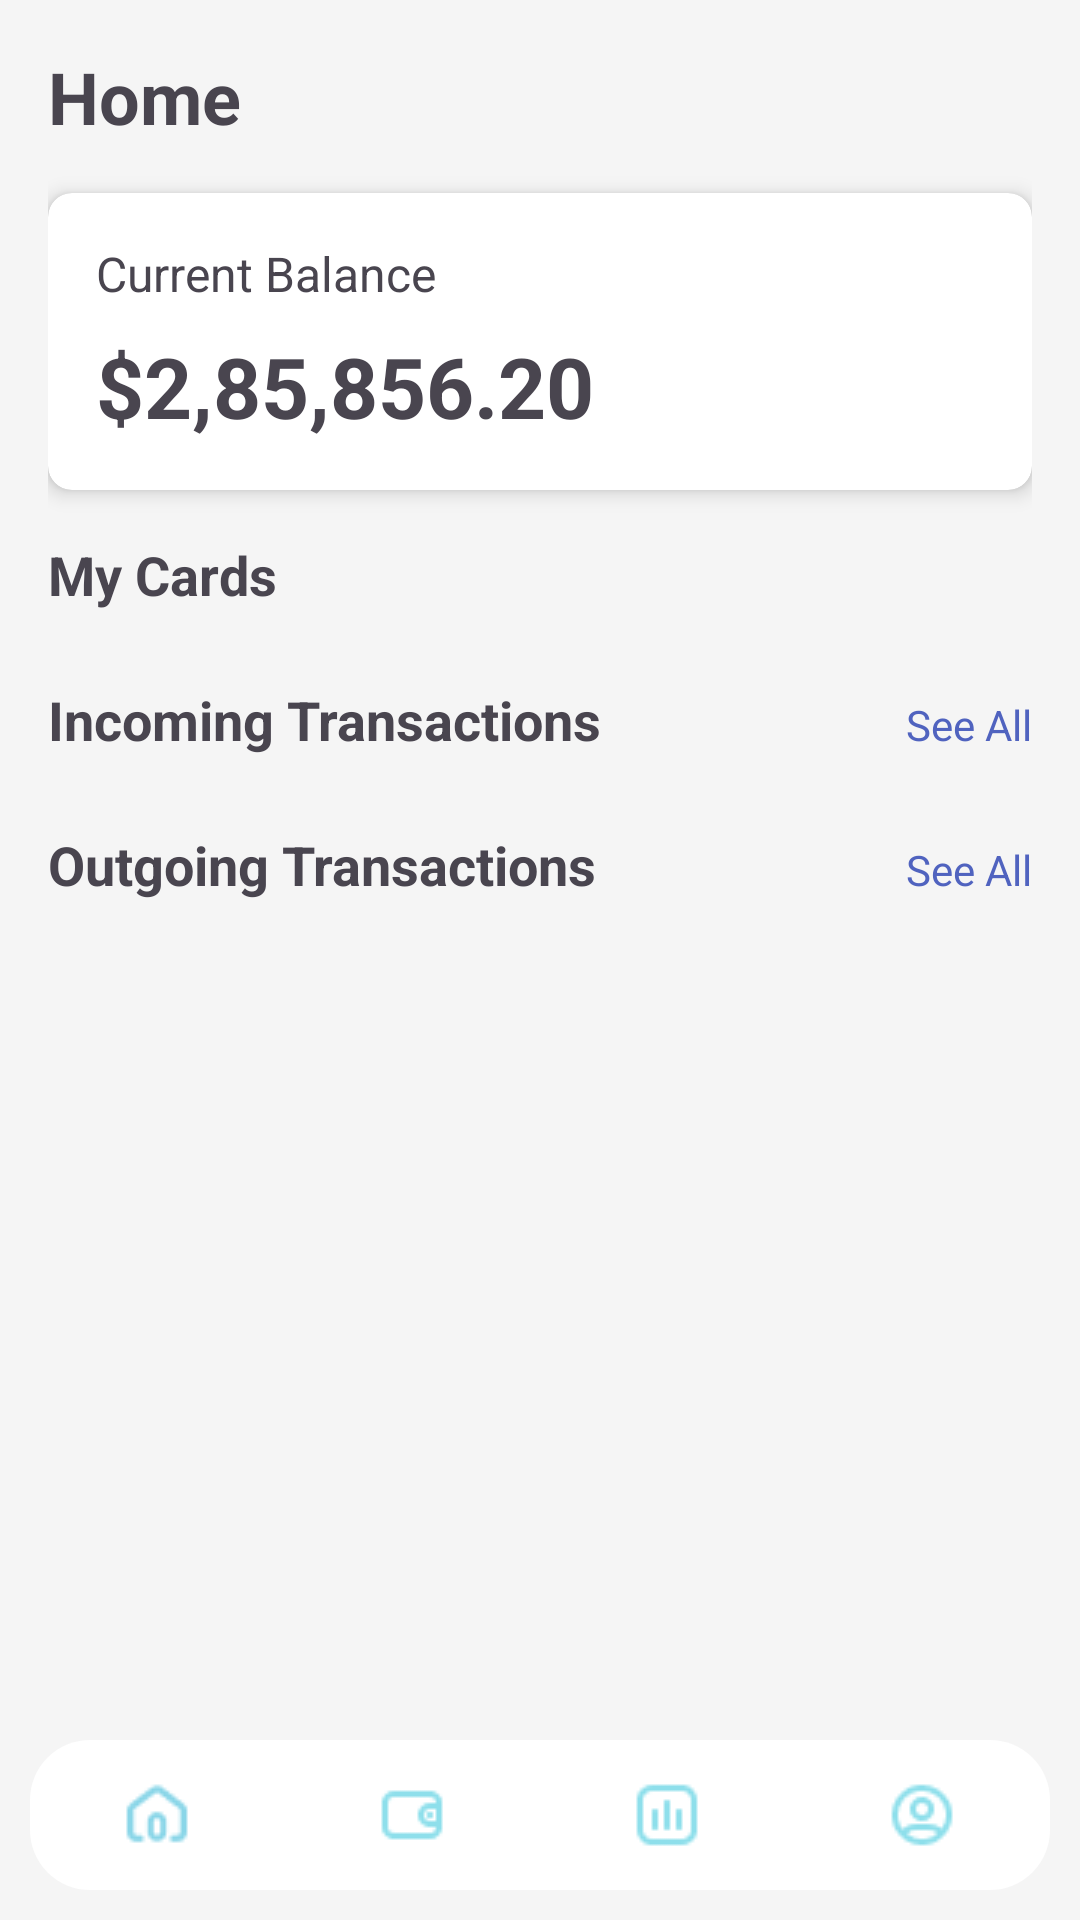

Icons on this 1080 × 1920 Android screen, each with its box as (x1, y1, x2, y2):
chart: (636, 1784, 698, 1846)
home: (126, 1784, 188, 1843)
prof: (891, 1784, 953, 1846)
wallet: (381, 1790, 443, 1840)
